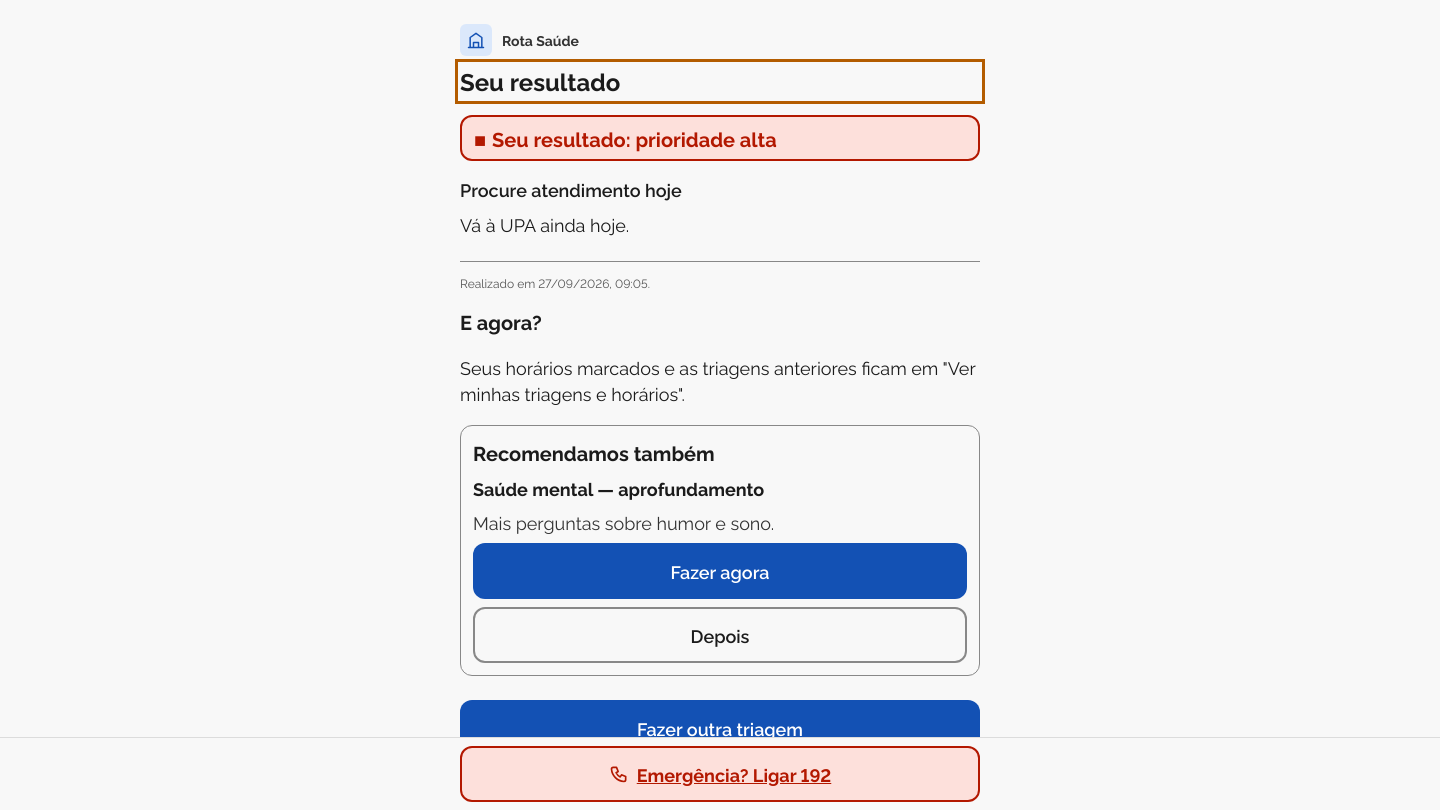
Test: ResultStep — Recomendamos também (módulo 15) › recusa ao começar aparece no bloco
This screenshot has width=1440, height=810.
Click the button "Fazer agora" at (720, 571), box [473,543,967,599]
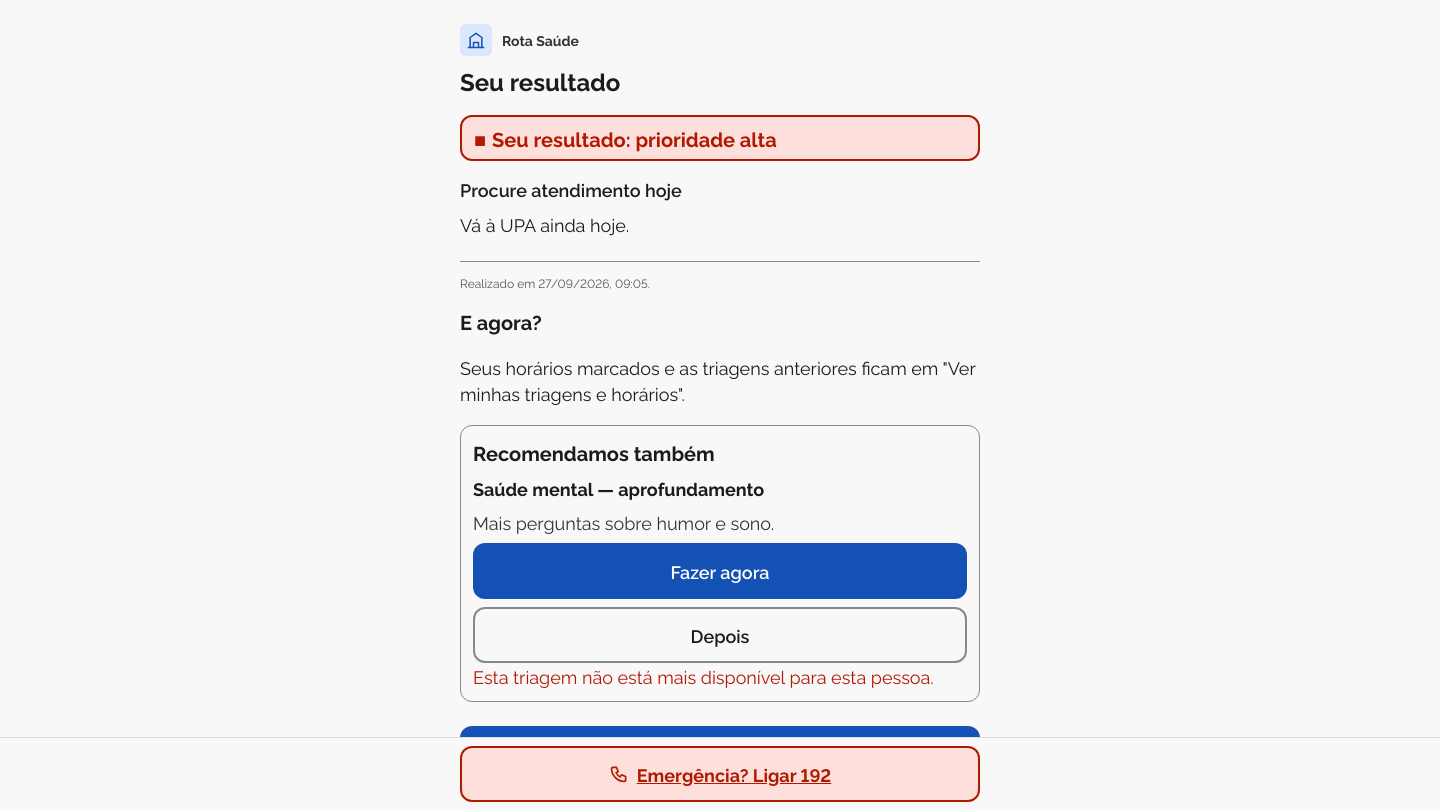
Result: the text "Esta triagem não está mais disponível para esta pessoa." is shown at [473,663,967,689]
